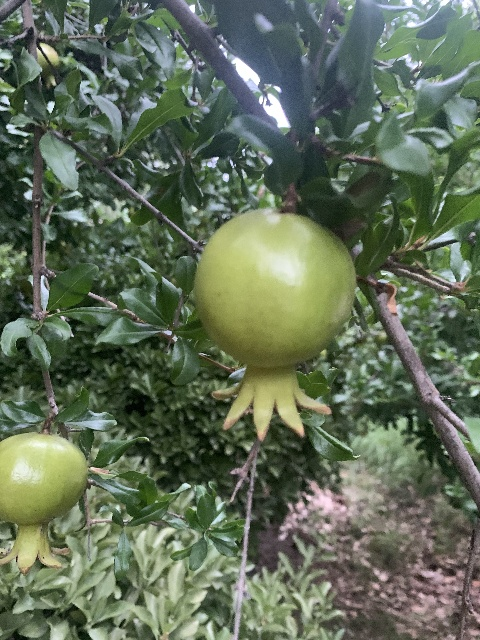mid-growth: (192, 209, 356, 442), (0, 431, 87, 574), (36, 42, 60, 88)
